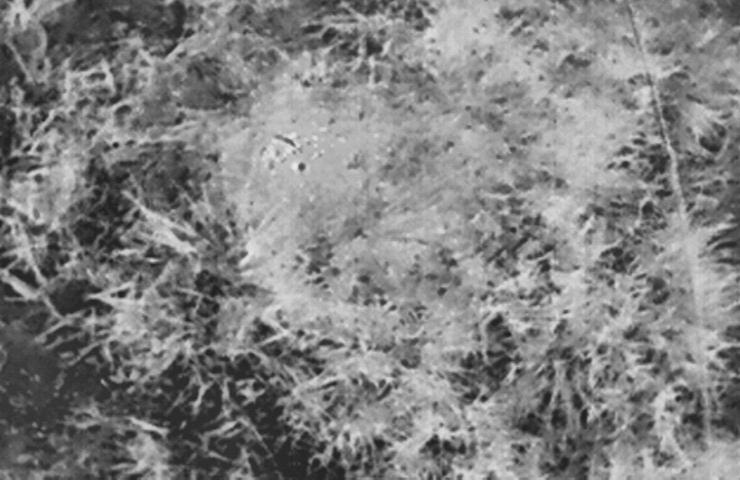landmines: (259, 123, 377, 211)
